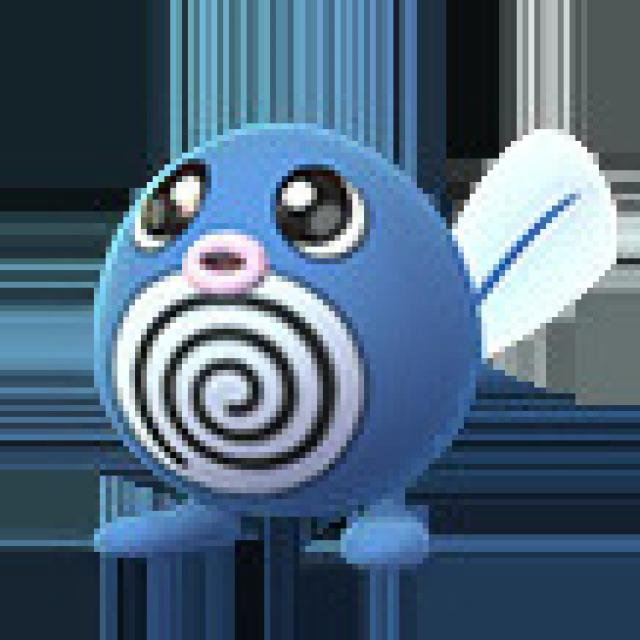Poliwag: (93, 109, 515, 576)
